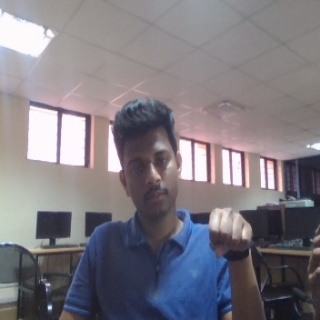Face: (112, 96, 184, 221)
Yes: (207, 205, 255, 262)
